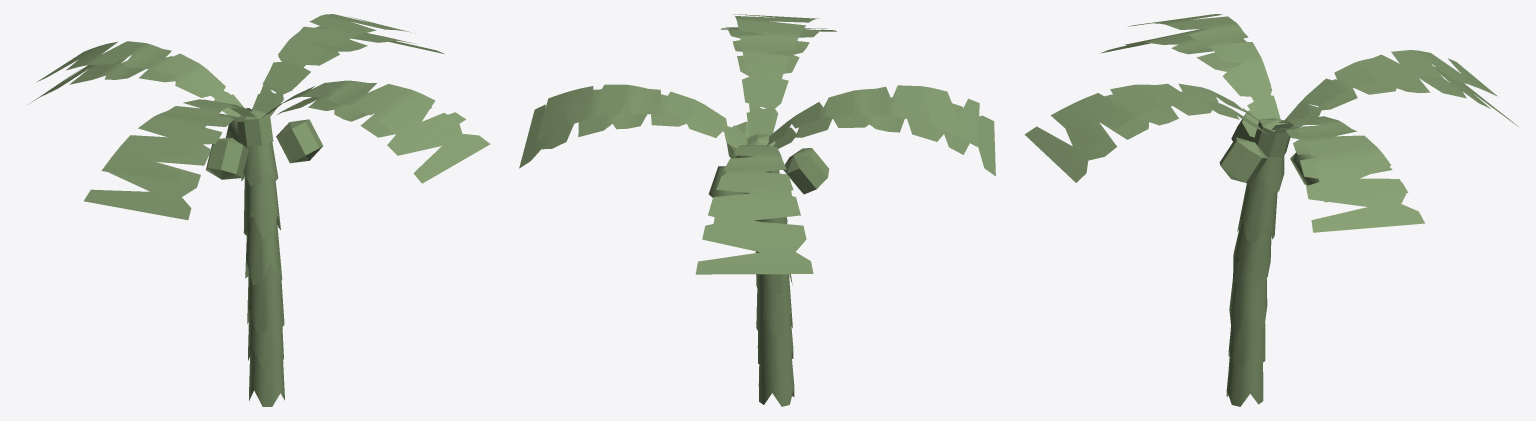
The model's file is SM_BgCocotier_Vaihiria.fbx.
The picture shows the model from 3 angles, left to right: view 1: azimuth 30°, elevation 25°; view 2: azimuth 150°, elevation 25°; view 3: azimuth 270°, elevation 25°; orthographic projection. The views are drawn at different scales.
Parts seen in each view (by area): view 1: Cocotier; view 2: Cocotier; view 3: Cocotier.
Boxes of the visible parts, box(x1,y1,x2,y2) form: Cocotier: box(28, 14, 490, 406); Cocotier: box(519, 14, 995, 406); Cocotier: box(1024, 14, 1518, 406).
Size of the model in its own units: 285 by 213 by 291.
